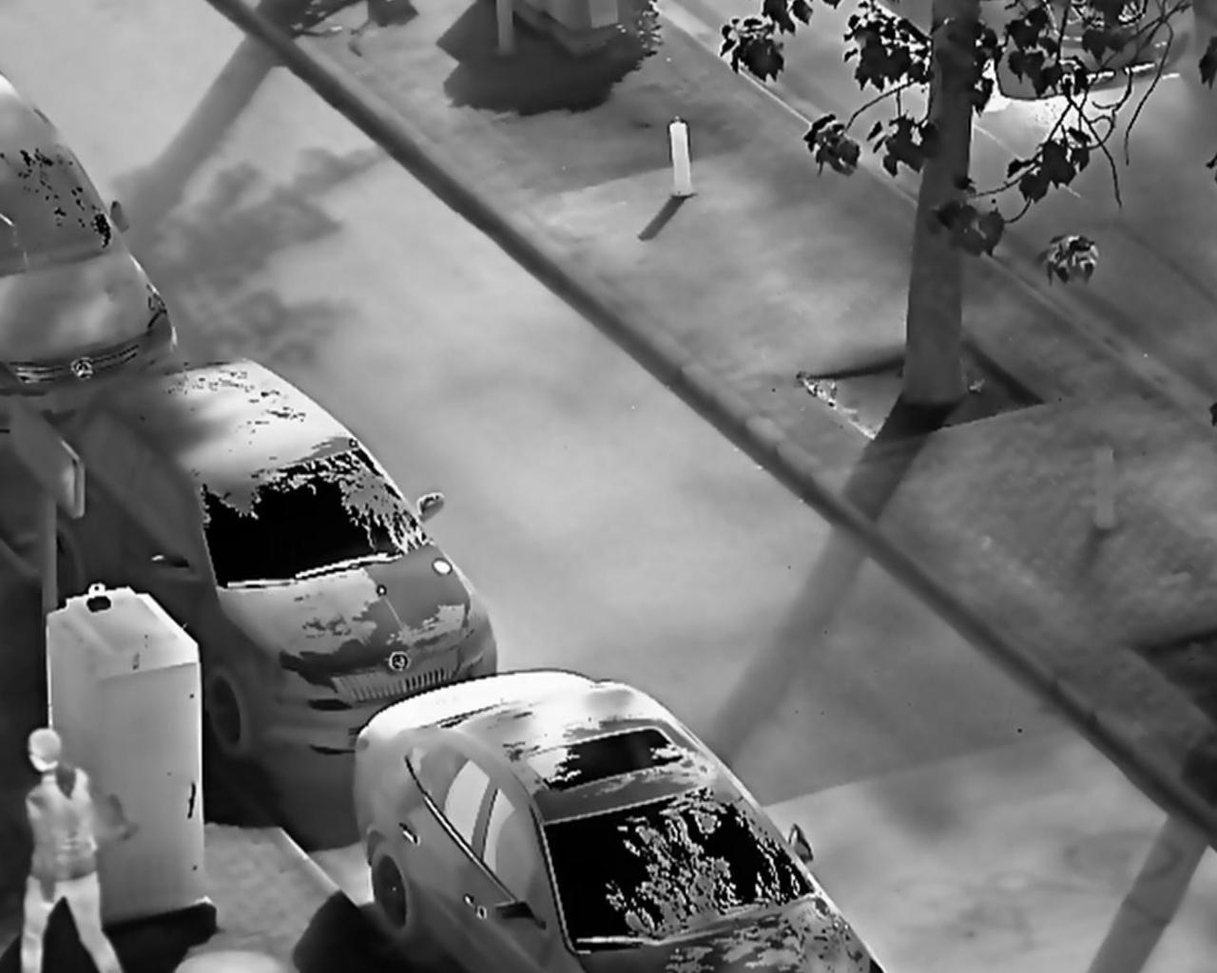person: (18, 724, 124, 973)
